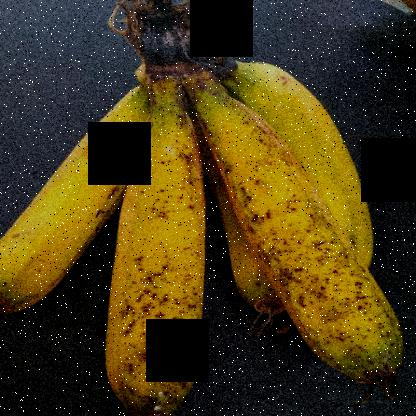freshripe: (0, 98, 145, 308)
ripe: (195, 96, 413, 392), (103, 113, 234, 415)
